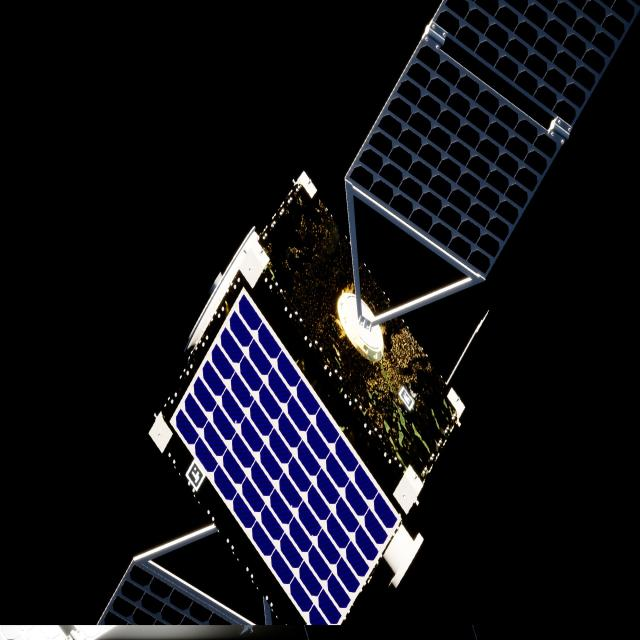medium_debris: (99, 0, 640, 631)
